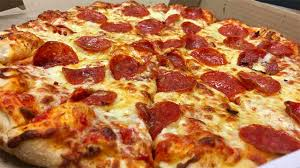pizza: (4, 5, 300, 168)
